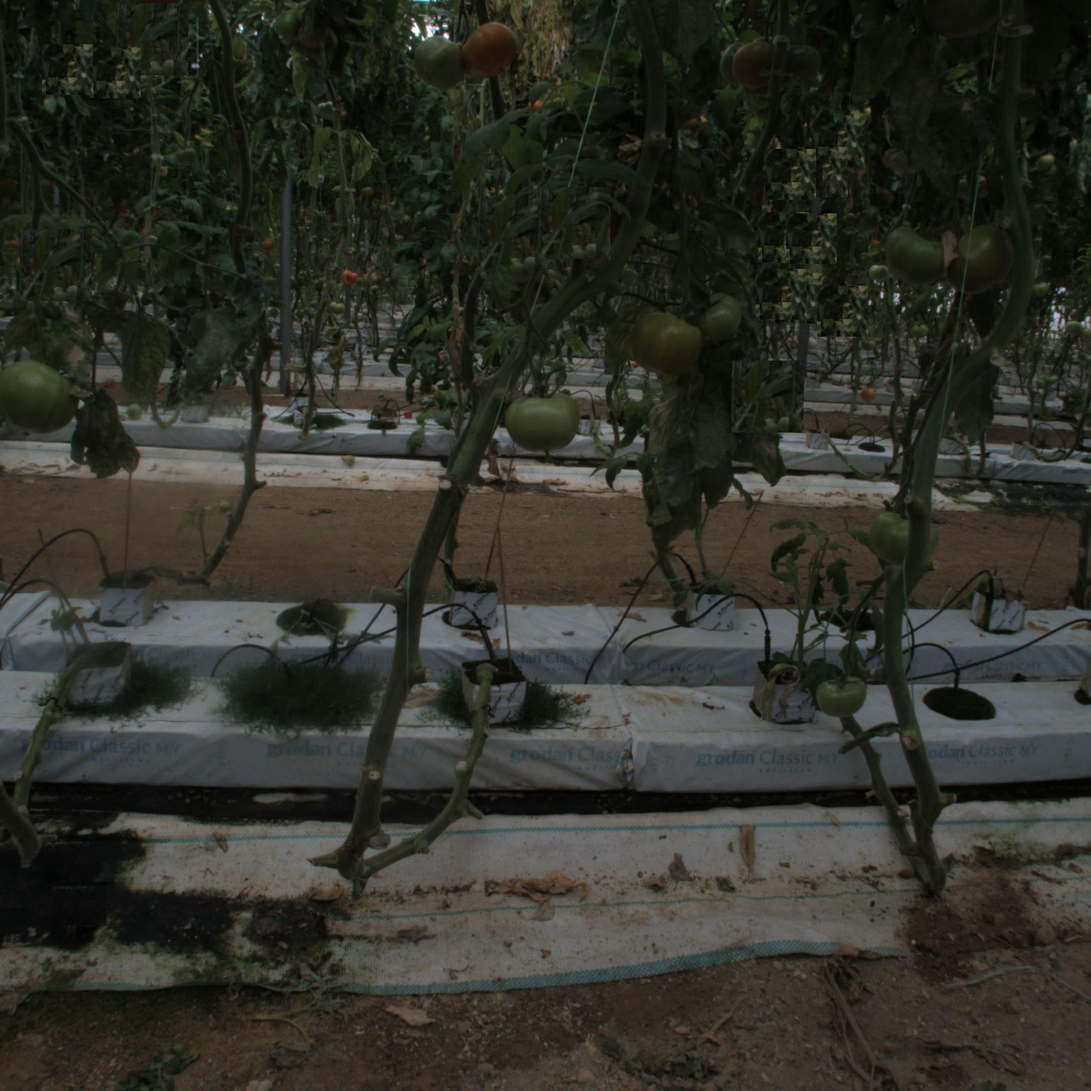fully-ripe: (461, 23, 518, 80), (729, 39, 783, 93)
unripe: (3, 361, 77, 435), (864, 503, 932, 571), (630, 307, 696, 373), (881, 220, 946, 286), (511, 386, 576, 452), (947, 224, 1012, 289), (696, 292, 744, 340), (817, 670, 865, 718), (412, 39, 460, 87)
